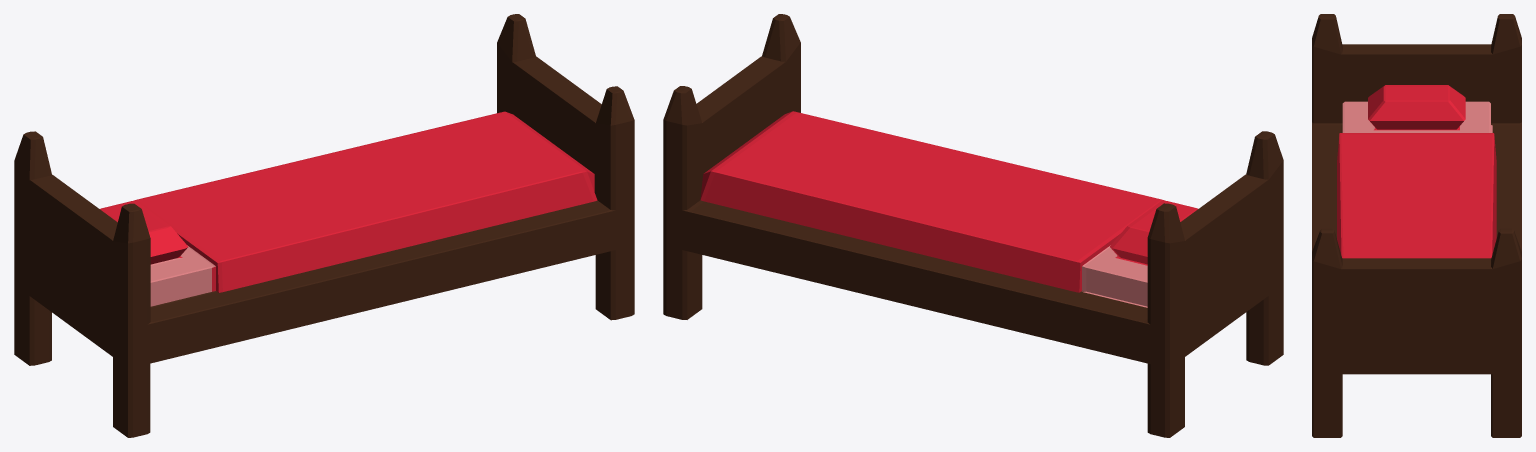
The model's file is F_Bed.fbx.
The picture shows the model from 3 angles, left to right: view 1: azimuth 30°, elevation 25°; view 2: azimuth 150°, elevation 25°; view 3: azimuth 270°, elevation 25°; orthographic projection. The views are drawn at different scales.
Parts seen in each view (by area): view 1: F_Bed; view 2: F_Bed; view 3: F_Bed.
Part boxes in pixels (box(x1,y1,x2,y2)): F_Bed: box(14, 14, 634, 437); F_Bed: box(663, 14, 1283, 437); F_Bed: box(1312, 14, 1521, 437).
Size of the model in its own units: 1127 by 473 by 445.
